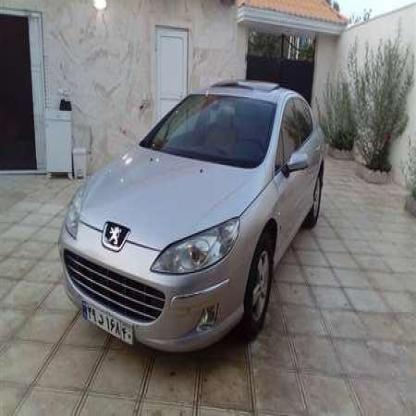Car: (60, 76, 333, 367)
